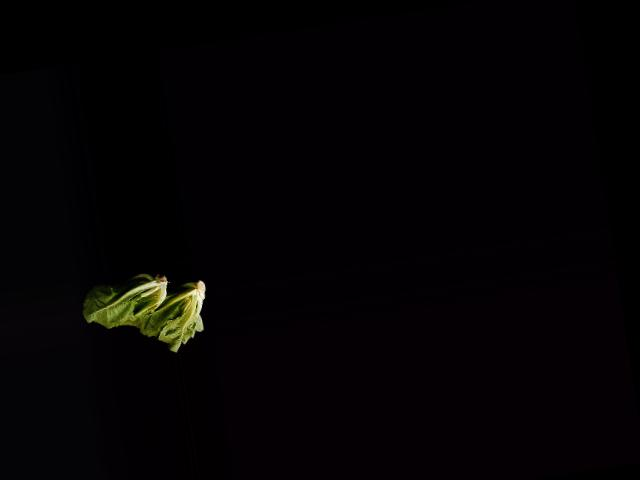lettuce: (116, 270, 214, 358)
